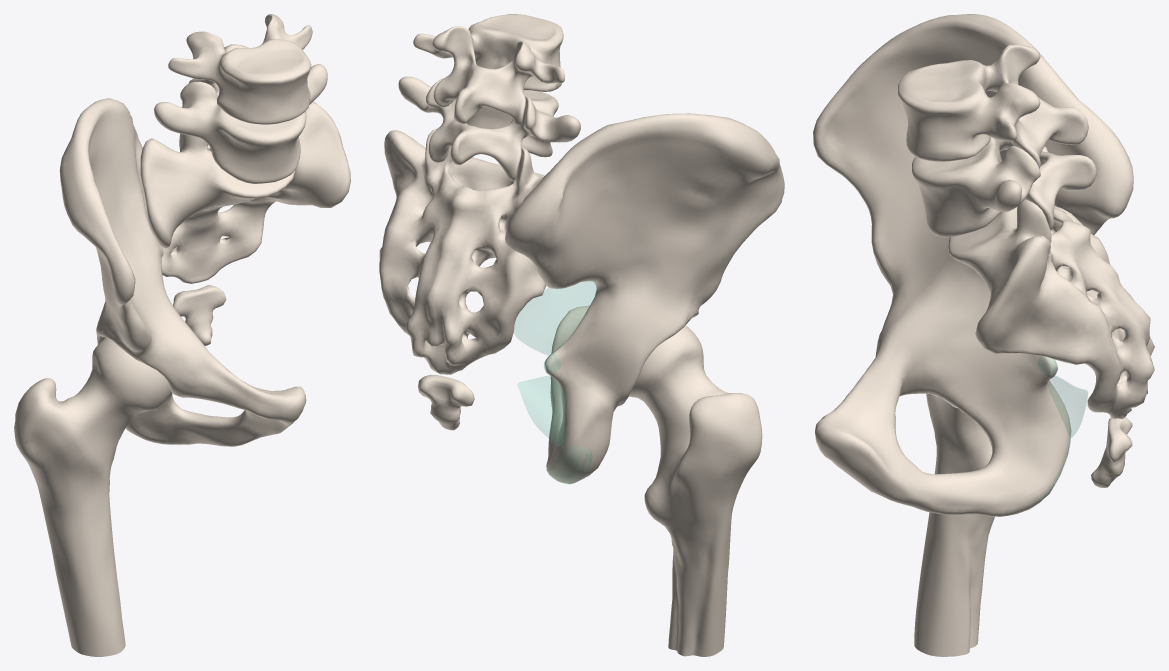
Rendered from open3d-pelvicfloor-skeletal-01.glb.
3 renders of one model, left to right at view 1: azimuth 30°, elevation 25°; view 2: azimuth 150°, elevation 25°; view 3: azimuth 270°, elevation 25°, orthographic. The views are drawn at different scales.
Visible parts, largest first — view 1: O3D_adefd838ebb245, O3D_e3b419b84f3afe, O3D_f1481298719d79, O3D_2572551bf1def8, O3D_961f85e8dcc2a4, O3D_dc3dfe46d1ab3f; view 2: O3D_adefd838ebb245, O3D_f1481298719d79, O3D_e3b419b84f3afe, O3D_2572551bf1def8, O3D_961f85e8dcc2a4, O3D_7136932e0a6152, O3D_ec29491c0a9210, O3D_dc3dfe46d1ab3f; view 3: O3D_adefd838ebb245, O3D_f1481298719d79, O3D_2572551bf1def8, O3D_e3b419b84f3afe, O3D_961f85e8dcc2a4, O3D_dc3dfe46d1ab3f, O3D_ec29491c0a9210.
Part boxes in pixels (left/top/right/bottom): O3D_adefd838ebb245: left=59, top=98, right=306, bottom=446; O3D_e3b419b84f3afe: left=14, top=338, right=171, bottom=656; O3D_f1481298719d79: left=140, top=101, right=350, bottom=283; O3D_2572551bf1def8: left=168, top=14, right=312, bottom=124; O3D_961f85e8dcc2a4: left=154, top=64, right=327, bottom=183; O3D_dc3dfe46d1ab3f: left=173, top=285, right=226, bottom=345; O3D_adefd838ebb245: left=505, top=113, right=784, bottom=483; O3D_f1481298719d79: left=379, top=129, right=545, bottom=374; O3D_e3b419b84f3afe: left=628, top=325, right=762, bottom=656; O3D_2572551bf1def8: left=413, top=14, right=564, bottom=125; O3D_961f85e8dcc2a4: left=398, top=76, right=580, bottom=180; O3D_7136932e0a6152: left=514, top=281, right=596, bottom=355; O3D_ec29491c0a9210: left=518, top=376, right=565, bottom=445; O3D_dc3dfe46d1ab3f: left=418, top=374, right=474, bottom=430; O3D_adefd838ebb245: left=813, top=14, right=1133, bottom=516; O3D_f1481298719d79: left=948, top=146, right=1154, bottom=419; O3D_2572551bf1def8: left=898, top=44, right=1088, bottom=168; O3D_e3b419b84f3afe: left=914, top=393, right=994, bottom=656; O3D_961f85e8dcc2a4: left=912, top=137, right=1096, bottom=237; O3D_dc3dfe46d1ab3f: left=1091, top=417, right=1132, bottom=487; O3D_ec29491c0a9210: left=1048, top=376, right=1087, bottom=437.
Size of the model in its own units: 0.21 by 0.3308 by 0.151.
